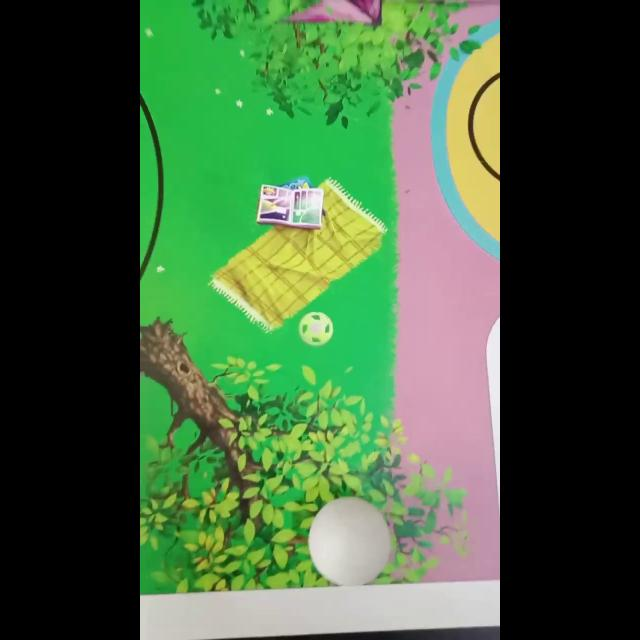white ball: (307, 495, 391, 585)
